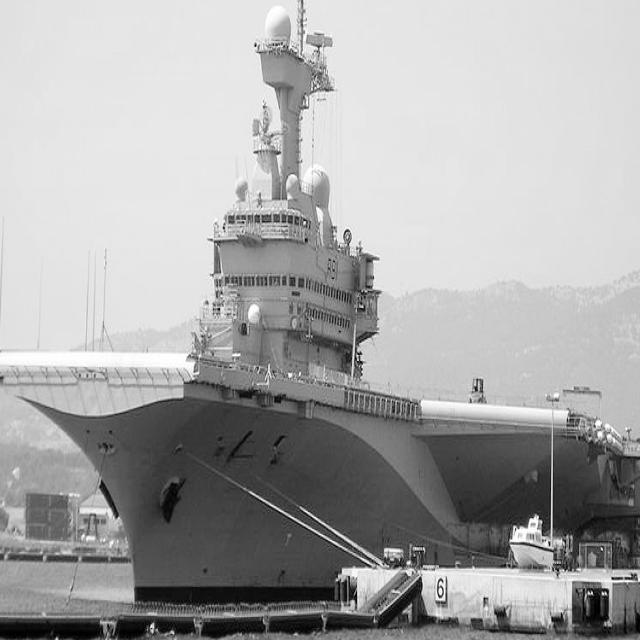Portanaves: (1, 1, 640, 613)
